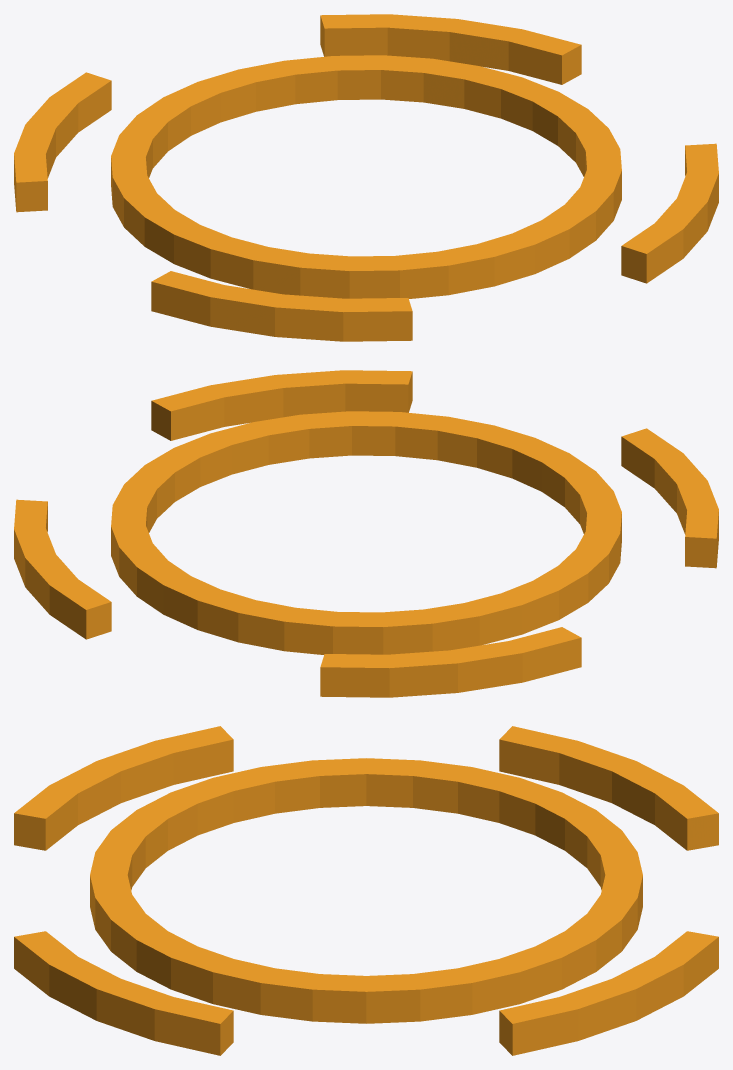
File: SM_Icon_SelectionRing_08.fbx
The picture shows the model from 3 angles, top to bottom: view 1: azimuth 30°, elevation 25°; view 2: azimuth 150°, elevation 25°; view 3: azimuth 270°, elevation 25°; orthographic projection. The views are drawn at different scales.
Visible parts, largest first — view 1: SM_Icon_SelectionRing_08; view 2: SM_Icon_SelectionRing_08; view 3: SM_Icon_SelectionRing_08.
Boxes of the visible parts, x1,y1,x2,y2 form: SM_Icon_SelectionRing_08: (14,14,718,341); SM_Icon_SelectionRing_08: (14,370,718,697); SM_Icon_SelectionRing_08: (14,726,718,1055).
Size of the model in its own units: 73.42 by 3.67 by 73.42.
